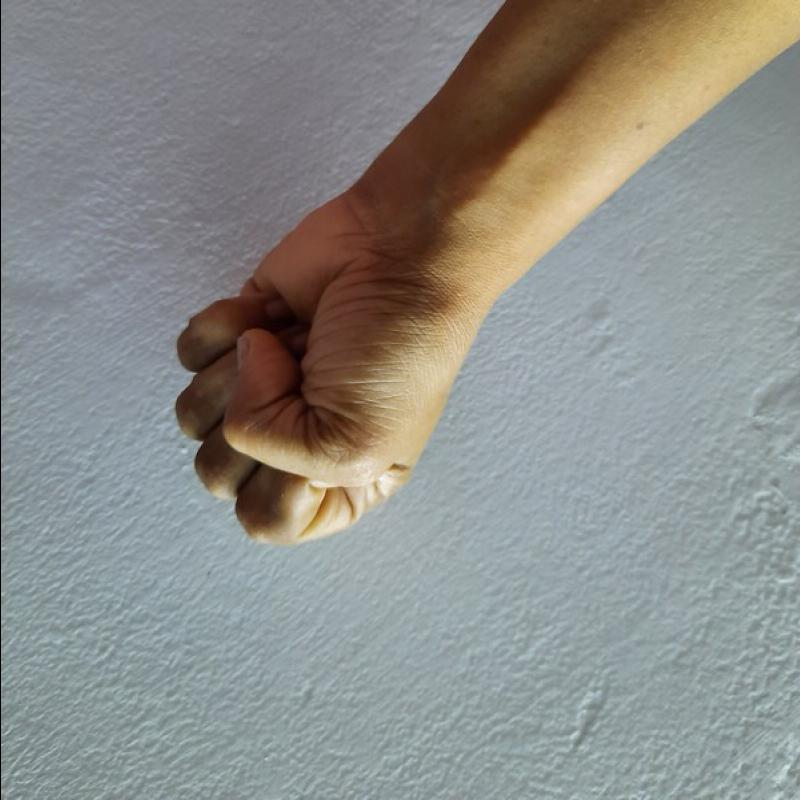Mushti: (124, 208, 479, 565)
